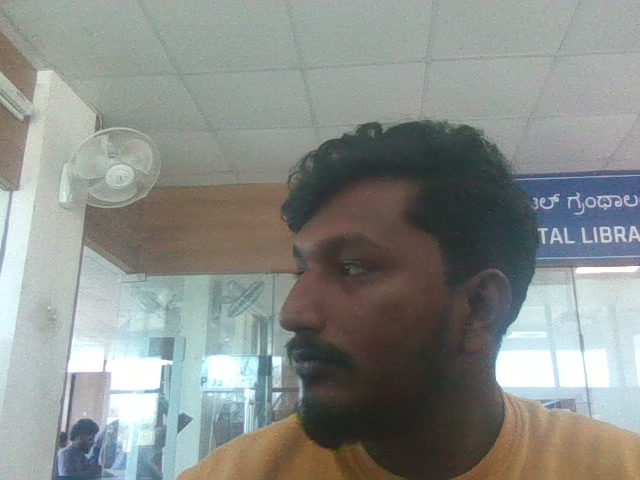real: (261, 106, 492, 434)
